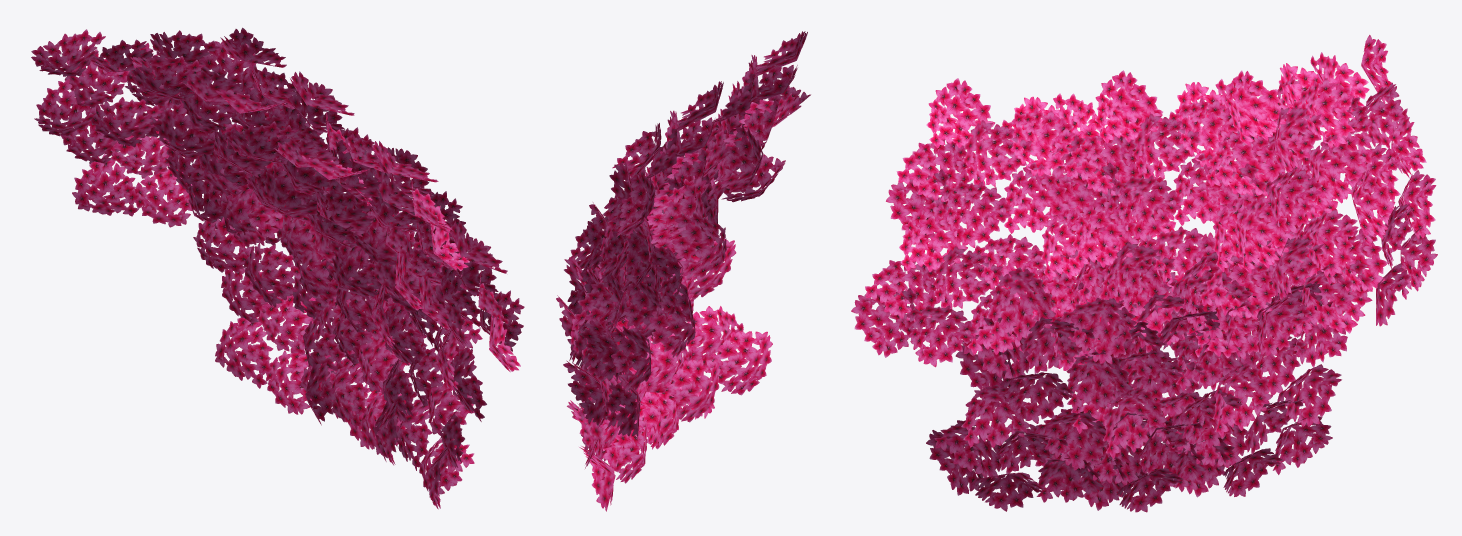
The model's file is SM_Flowers_04.fbx.
The picture shows the model from 3 angles, left to right: view 1: azimuth 30°, elevation 25°; view 2: azimuth 150°, elevation 25°; view 3: azimuth 270°, elevation 25°; orthographic projection. The views are drawn at different scales.
Parts seen in each view (by area): view 1: SM_Flowers_04_LOD0; view 2: SM_Flowers_04_LOD0; view 3: SM_Flowers_04_LOD0.
Boxes of the visible parts, <box> form: SM_Flowers_04_LOD0: <box>31,27,524,509</box>; SM_Flowers_04_LOD0: <box>556,31,810,511</box>; SM_Flowers_04_LOD0: <box>851,35,1437,512</box>.
Size of the model in its own units: 43.72 by 82.44 by 63.19.
1 material, 1 textured.
